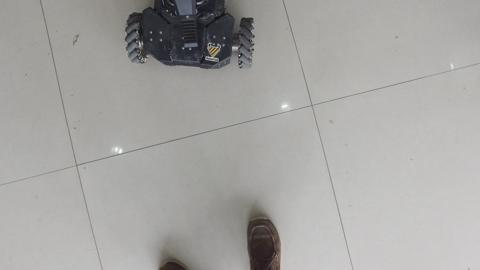chariot: (119, 1, 260, 85)
